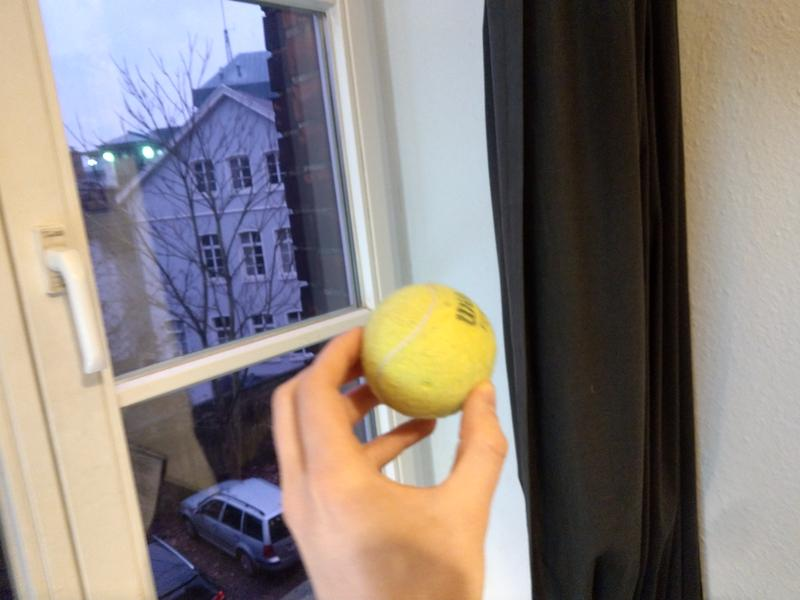Tennisball: (355, 280, 501, 420)
